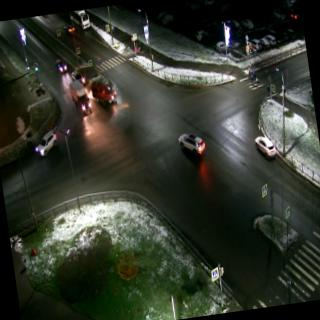large-vehicle: (88, 75, 118, 110), (66, 80, 92, 114), (69, 9, 91, 32)
small-vehicle: (173, 126, 206, 160), (32, 130, 60, 156), (254, 130, 278, 160), (68, 70, 86, 90), (60, 18, 76, 38), (54, 56, 68, 78)
